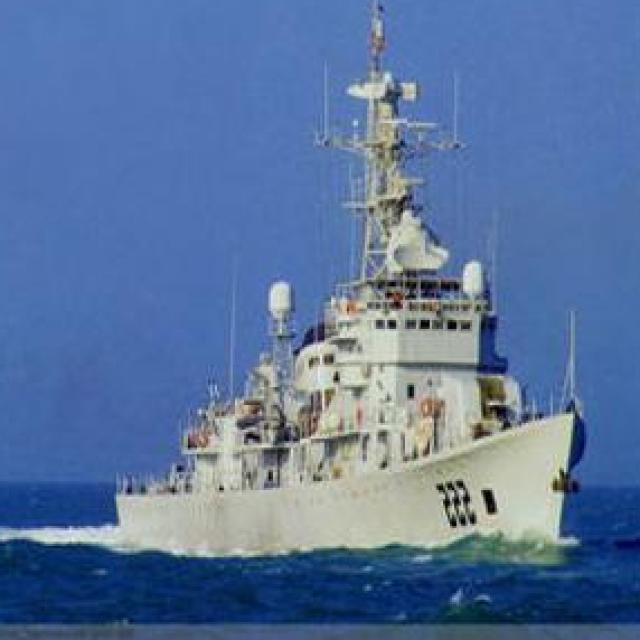navalvessels: (101, 0, 593, 562)
